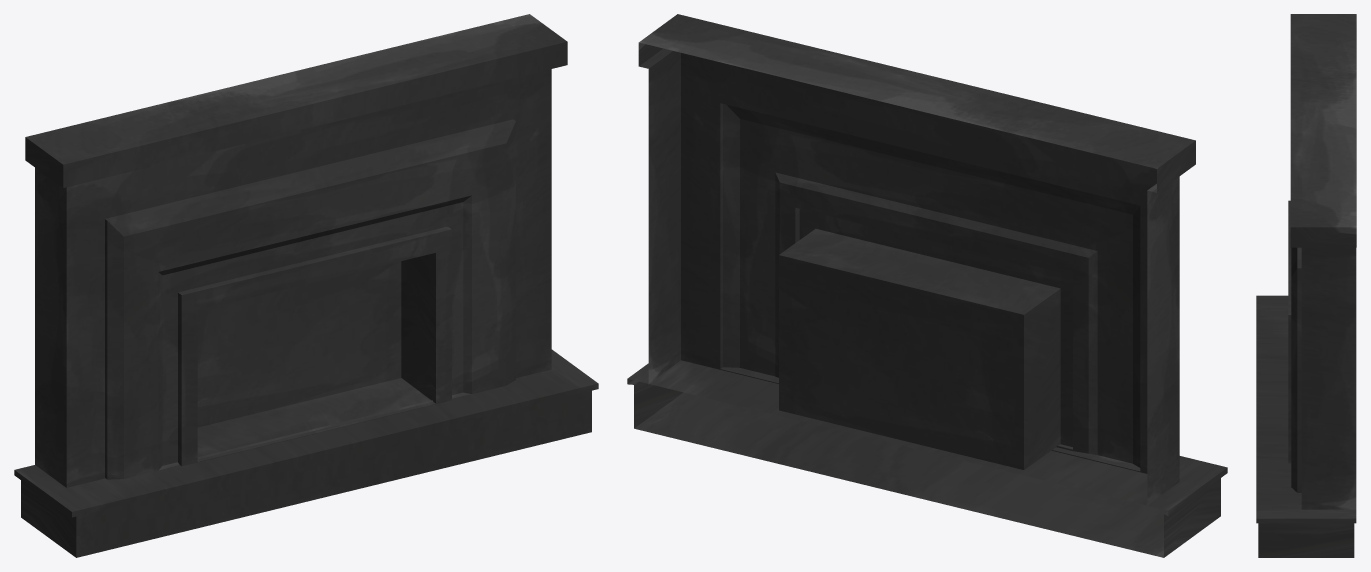
File: Livingroom_fire.fbx
3 renders of one model, left to right at view 1: azimuth 30°, elevation 25°; view 2: azimuth 150°, elevation 25°; view 3: azimuth 270°, elevation 25°, orthographic. The views are drawn at different scales.
Parts seen in each view (by area): view 1: polySurface1; view 2: polySurface1; view 3: polySurface1.
Boxes of the visible parts, bbox=[...] form: polySurface1: bbox=[14, 14, 598, 557]; polySurface1: bbox=[627, 14, 1227, 557]; polySurface1: bbox=[1256, 14, 1356, 557].
Size of the model in its own units: 0.1533 by 0.1052 by 0.0291.
